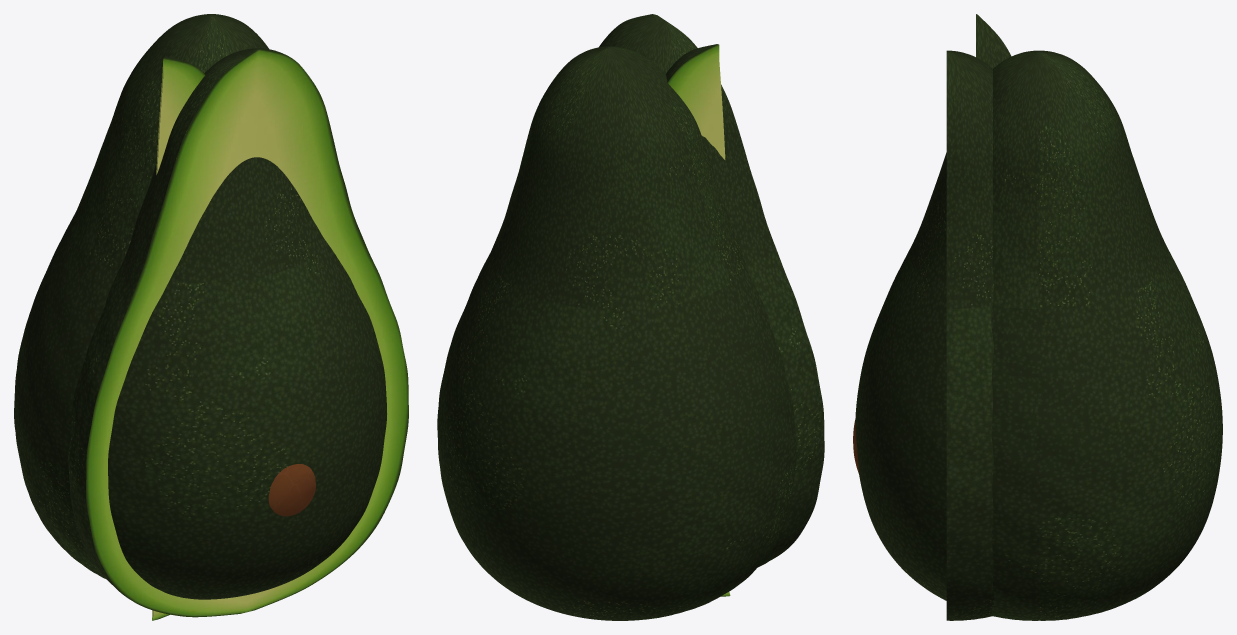
File: avocado.glb
The picture shows the model from 3 angles, left to right: view 1: azimuth 30°, elevation 25°; view 2: azimuth 150°, elevation 25°; view 3: azimuth 270°, elevation 25°; orthographic projection.
Visible parts, largest first — view 1: AvoWhole, AvoHalfHollow, AvoSlice, AvoSeed; view 2: AvoWhole, AvoHalfHollow, AvoSlice; view 3: AvoWhole, AvoHalfHollow, AvoSlice.
Part boxes in pixels (bbox=[...]): AvoWhole: bbox=[14, 14, 386, 599]; AvoHalfHollow: bbox=[68, 48, 408, 617]; AvoSlice: bbox=[152, 57, 205, 620]; AvoSeed: bbox=[268, 464, 315, 516]; AvoWhole: bbox=[437, 46, 796, 620]; AvoHalfHollow: bbox=[599, 14, 824, 567]; AvoSlice: bbox=[665, 44, 730, 596]; AvoWhole: bbox=[855, 50, 1222, 620]; AvoHalfHollow: bbox=[946, 50, 993, 620]; AvoSlice: bbox=[976, 14, 1011, 68].
Bounding box in the file's own units: 0.8428 × 1.39 × 0.8466.
Materials: 3 (3 with a texture image).
